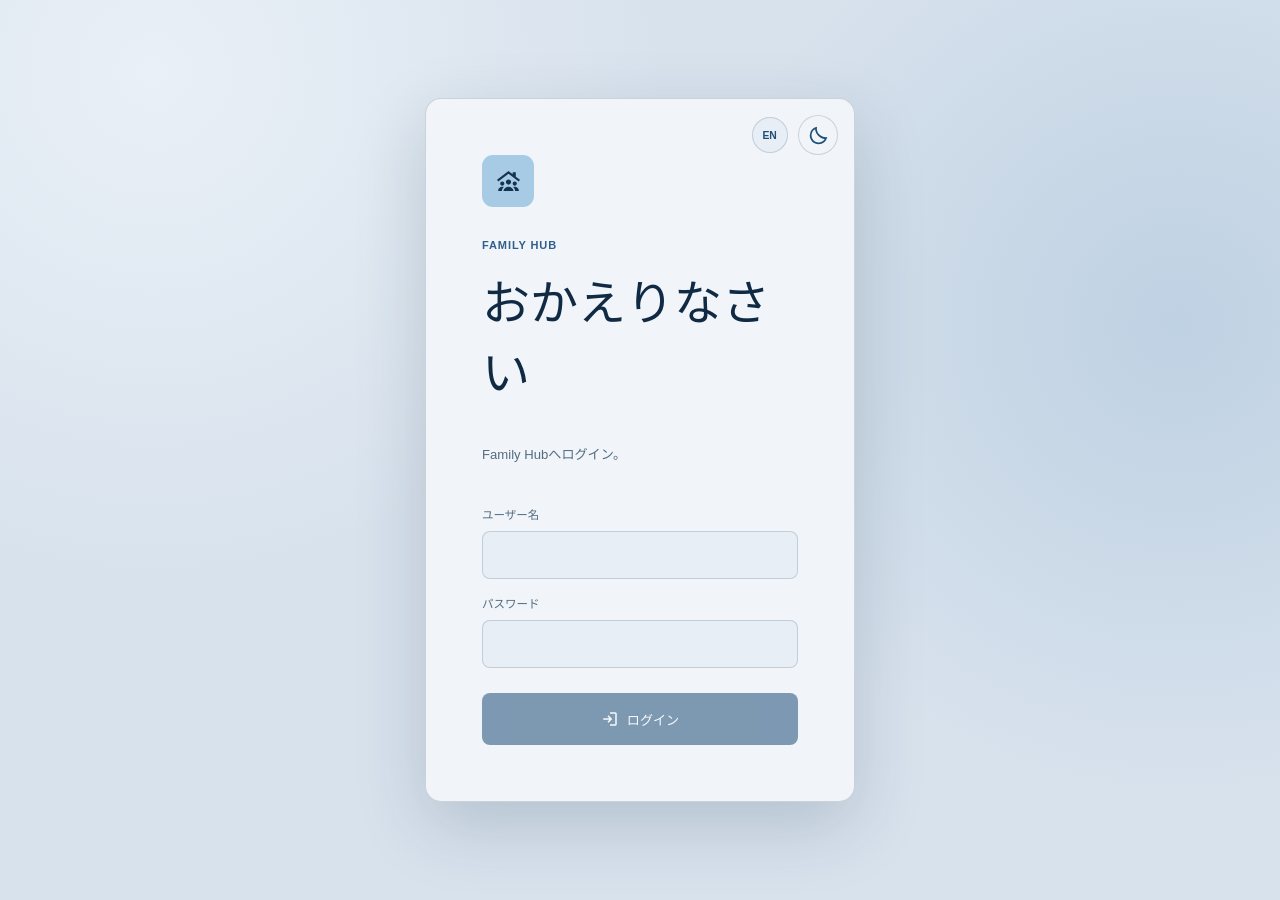
Scenario: LoginScreen › shows a safe error for invalid credentials
In the field labelled "ユーザー名": x=640, y=555 [482, 531, 798, 579], type "owner"
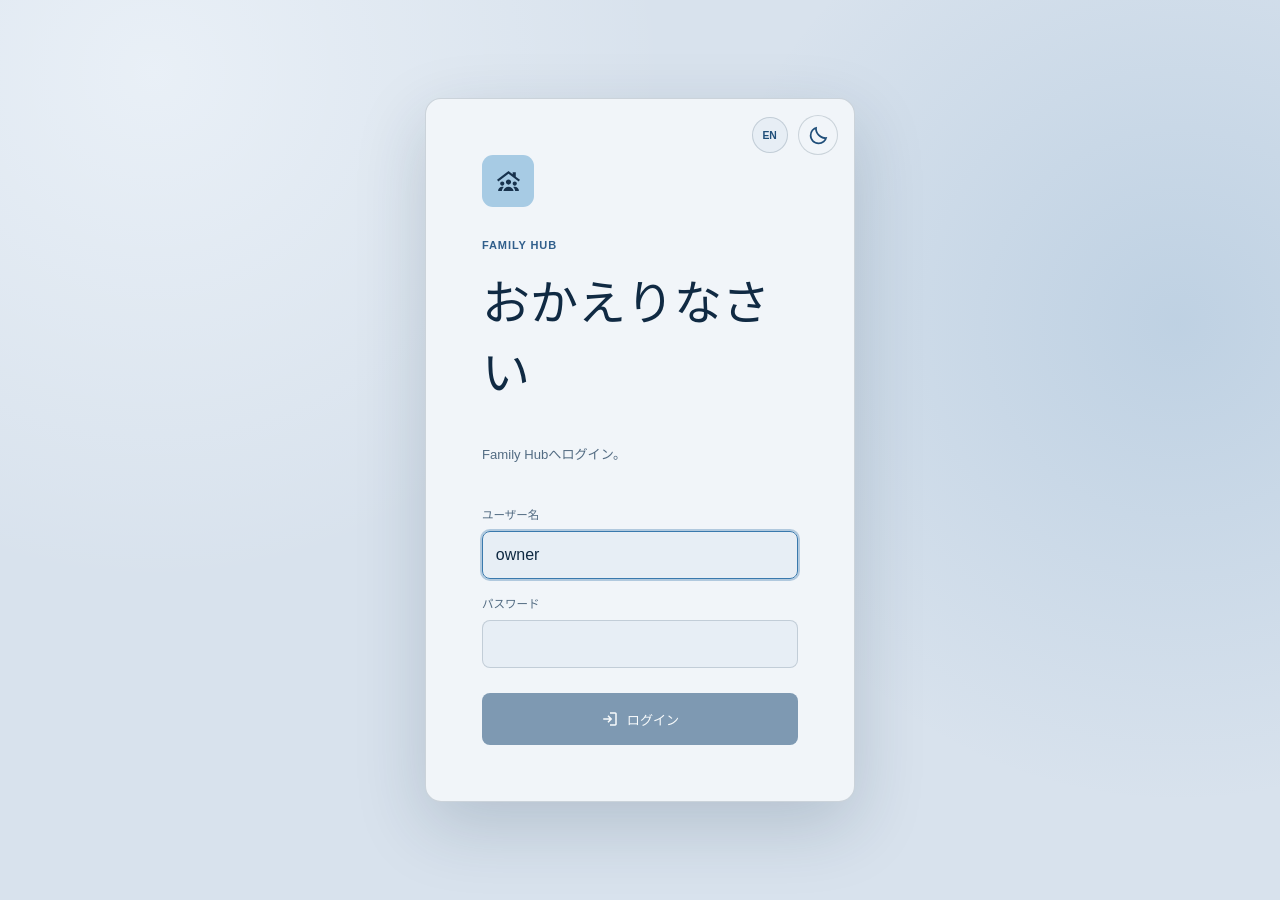
In the password field labelled "パスワード": x=640, y=644 [482, 620, 798, 668], type "wrong-password"
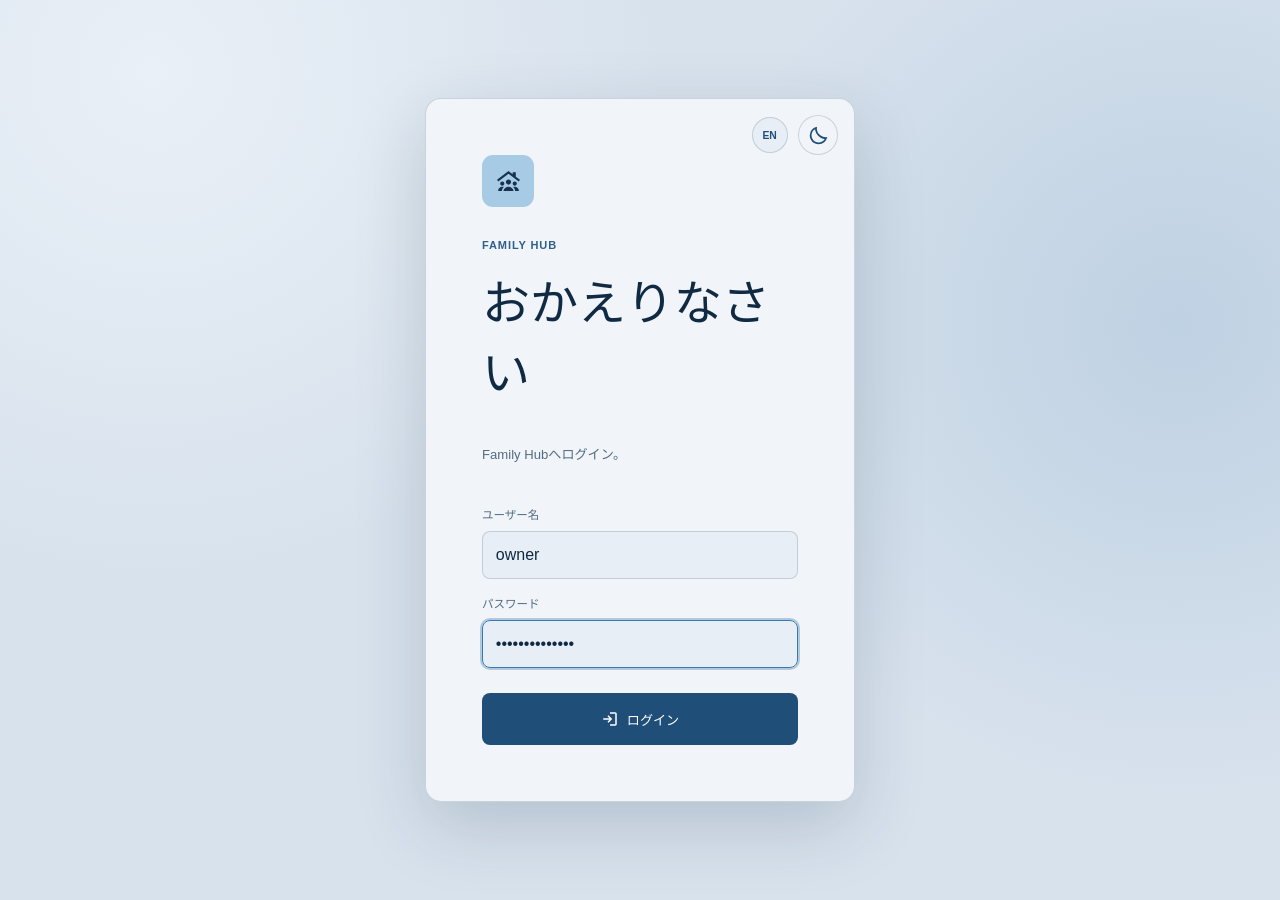
Click the button "ログイン": x=640, y=719 [482, 693, 798, 745]
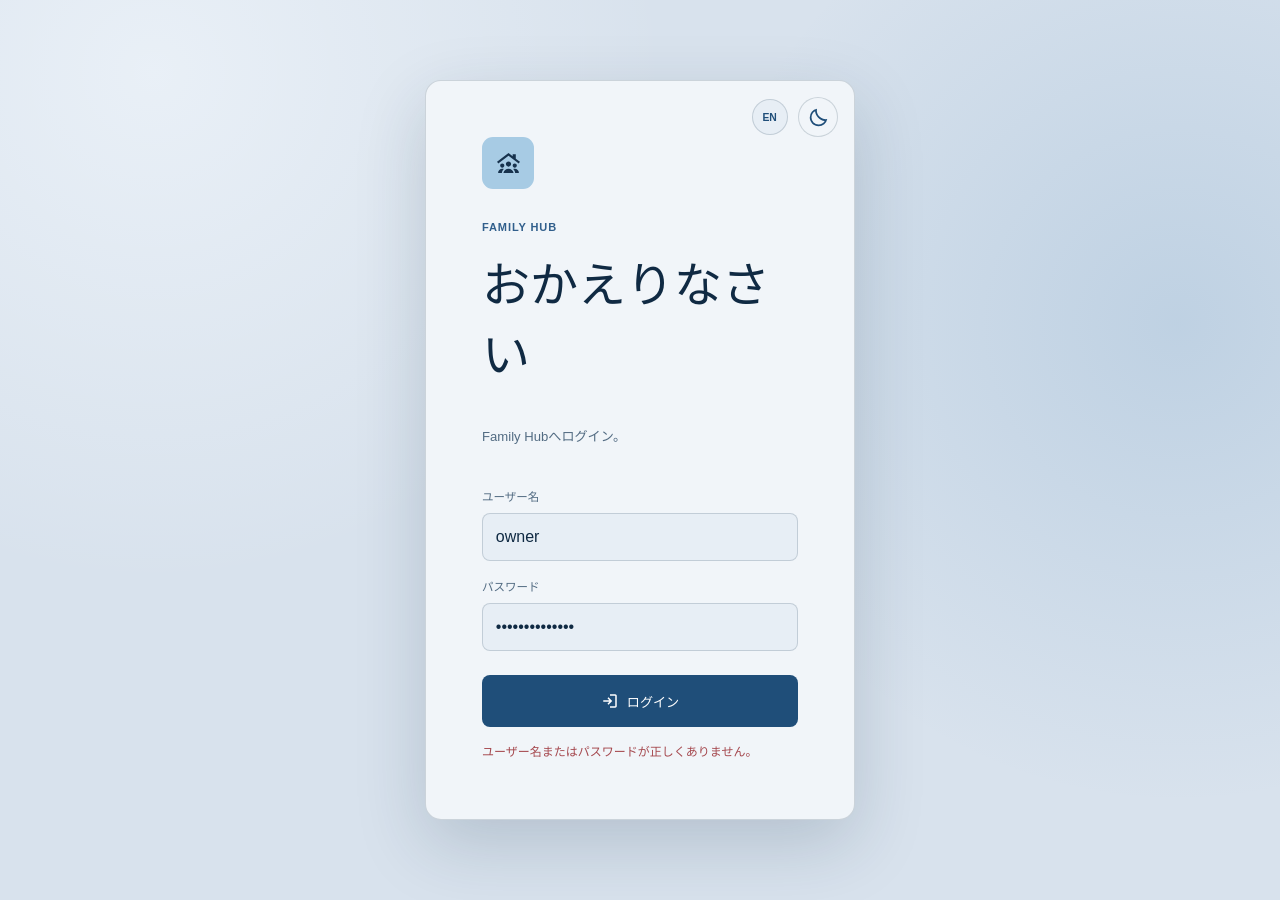
Expected: the message reads "ユーザー名またはパスワードが正しくありません。", [482, 745, 757, 759]
